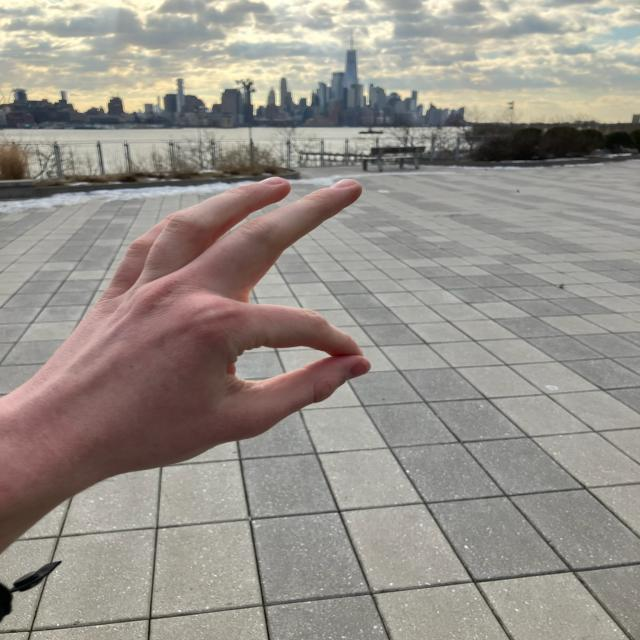WTC: (342, 29, 358, 100)
